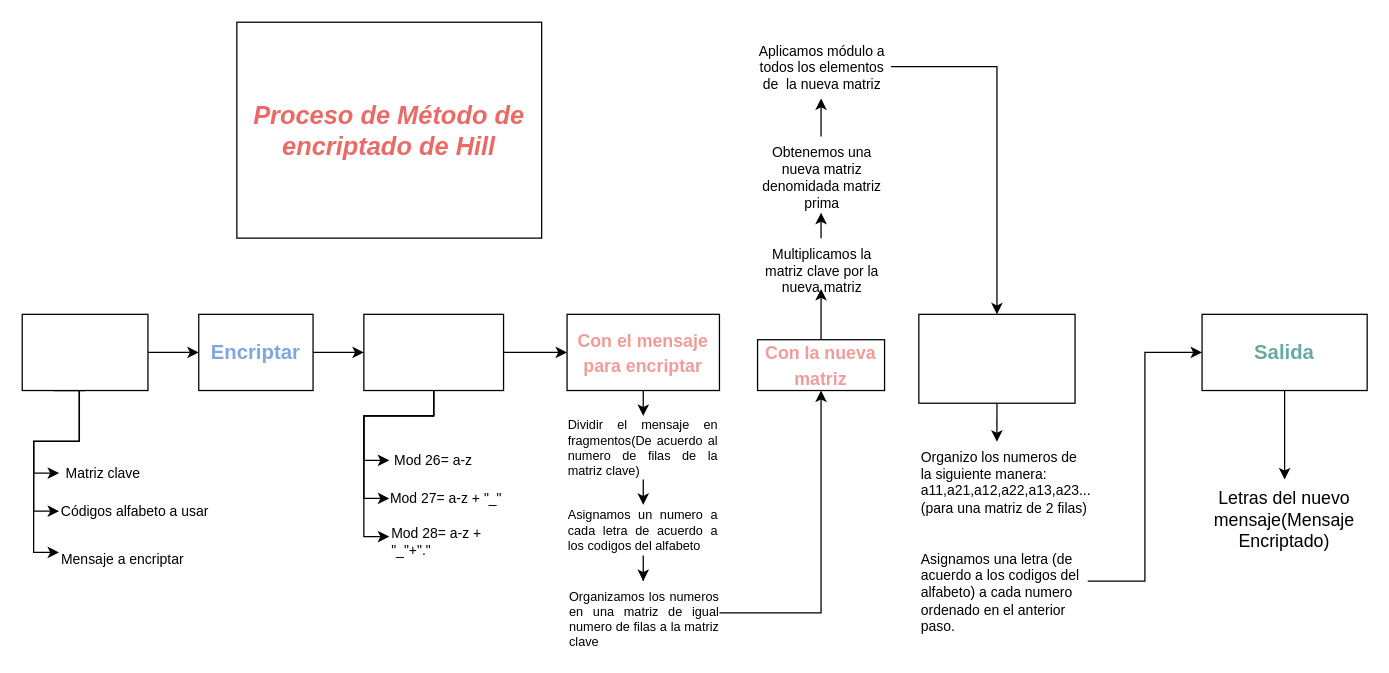
Image size: 1389x673. Some labels were removed from this diagram. The shapes that lost their labels are listed below. From the top down, each one's box as (x1, y1, x2, y2) in pixels, then its label:
(21, 313, 148, 391): Entradas
(363, 313, 504, 391): Elegir modulo a usar
(918, 313, 1075, 403): Con los valores obtenidos organizados en la matriz
